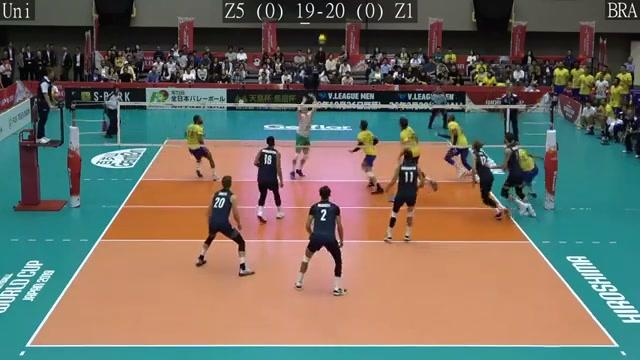ball: (316, 33, 327, 45)
